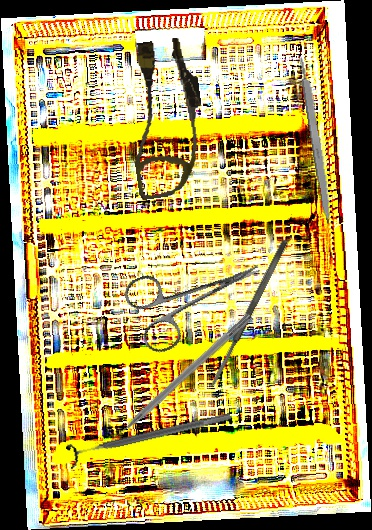Cannula: (118, 35, 214, 201)
Fixation Ring: (65, 403, 234, 470)
Iris Scissors: (120, 234, 276, 358)
Pusher: (100, 310, 254, 451)
Scalpel Handle: (297, 56, 336, 225)
Spatula Surgical: (207, 237, 290, 390)
